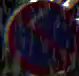No Stopping: (5, 0, 78, 73)
